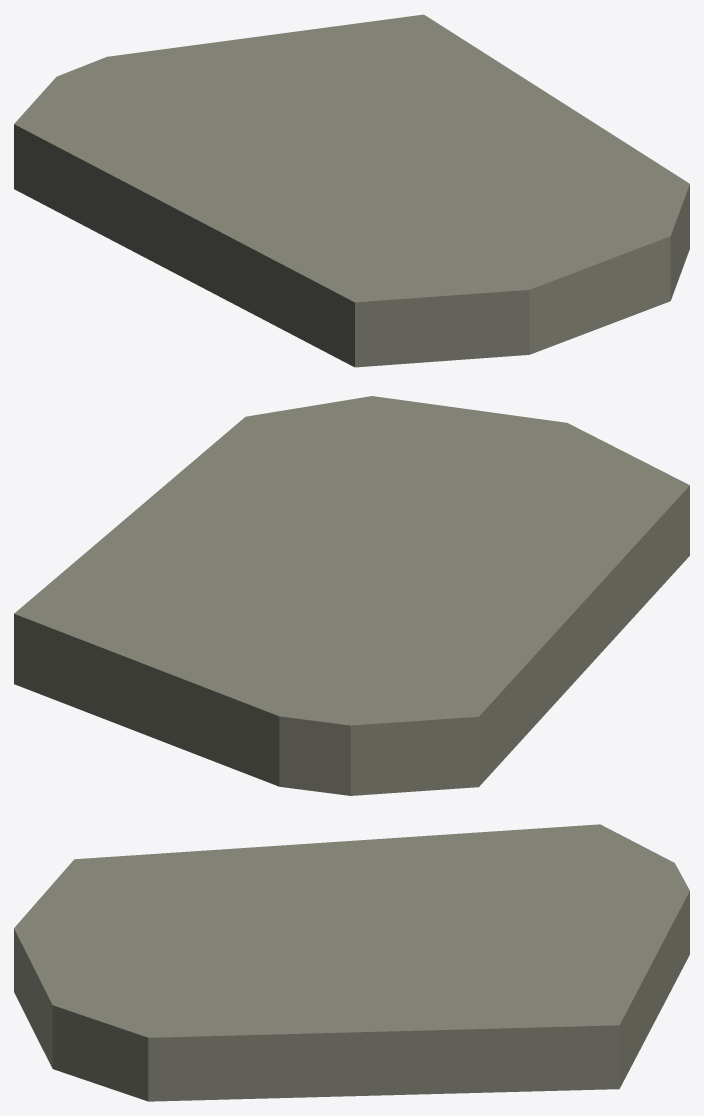
File: Tile2.fbx
3 renders of one model, top to bottom at view 1: azimuth 30°, elevation 25°; view 2: azimuth 150°, elevation 25°; view 3: azimuth 270°, elevation 25°, orthographic. The views are drawn at different scales.
Visible parts, largest first — view 1: Tile2; view 2: Tile2; view 3: Tile2.
Boxes of the visible parts, box(x1,y1,x2,y2) form: Tile2: box(14, 14, 689, 367); Tile2: box(14, 396, 689, 795); Tile2: box(14, 824, 689, 1101).
Bounding box in the file's own units: 0.27 × 0.0376 × 0.3612.
